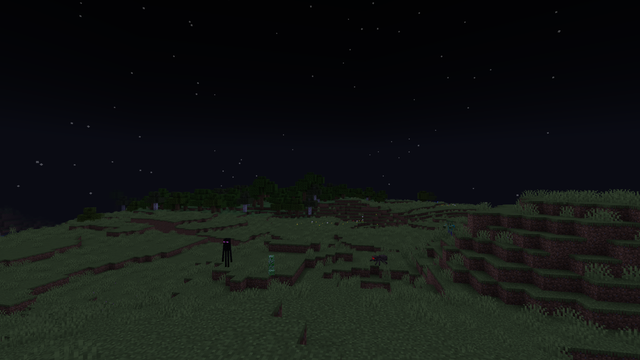araignees: (372, 253, 384, 265)
creepers: (267, 254, 275, 274)
endermens: (222, 236, 230, 267)
zombies: (446, 220, 453, 238)
